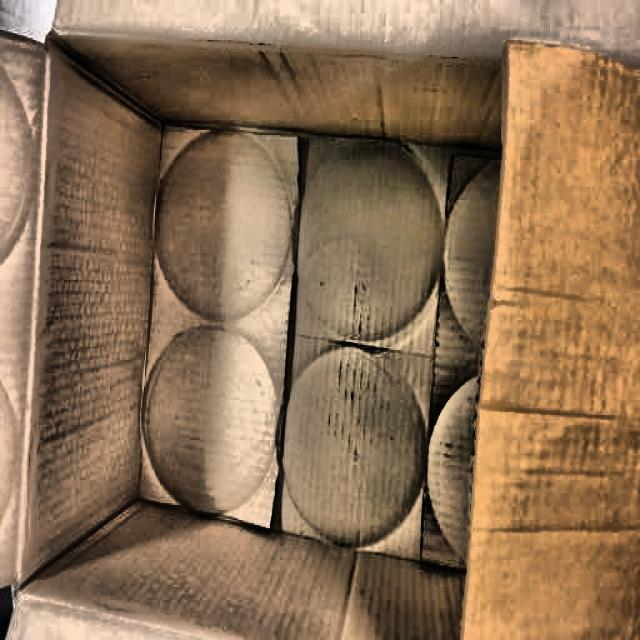cardboard: (34, 4, 586, 568)
